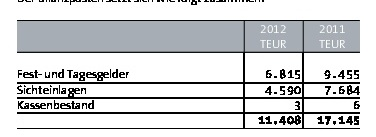table: (0, 0, 376, 137)
